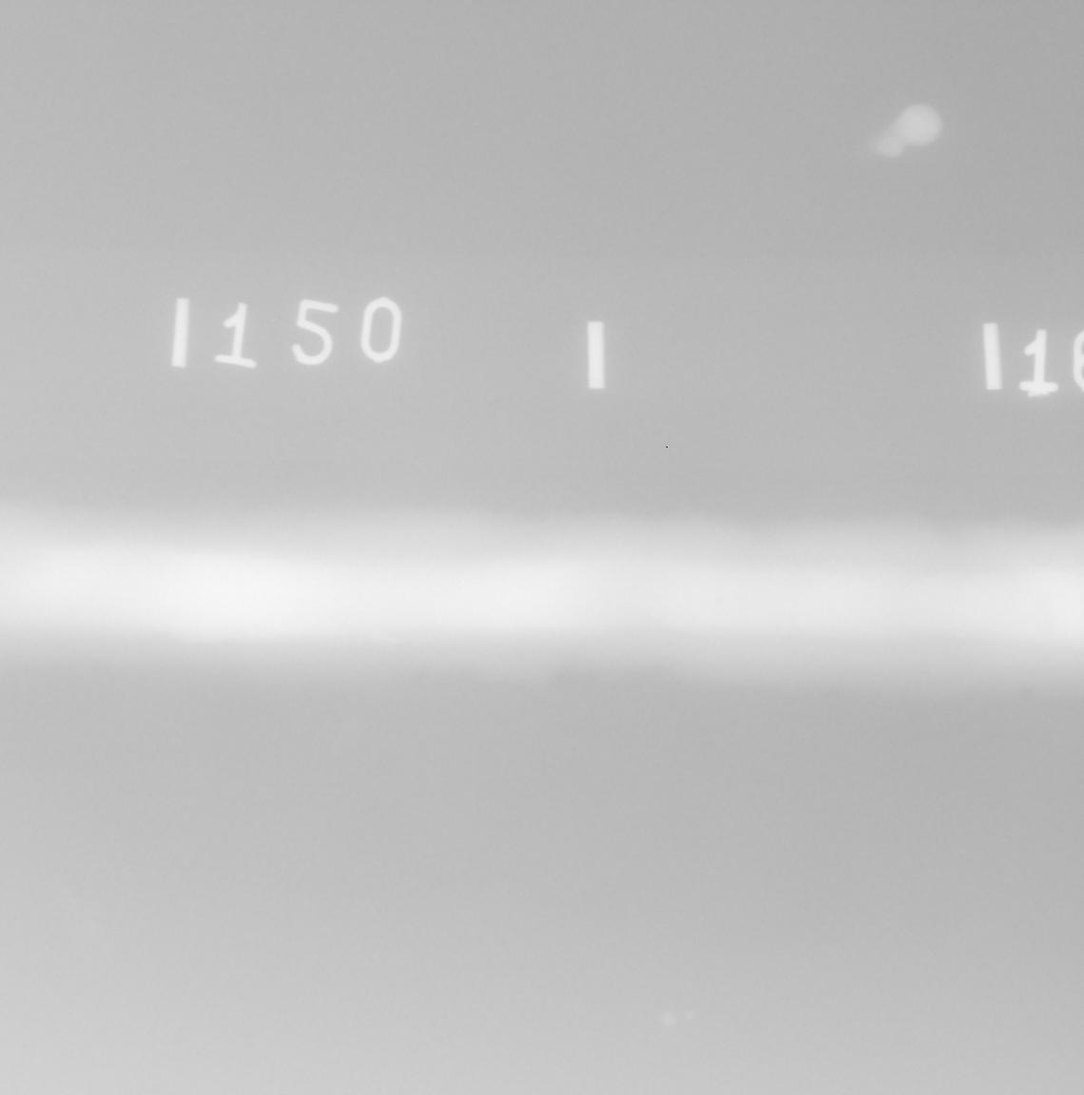Pore/Porosity: (715, 597, 722, 604)
